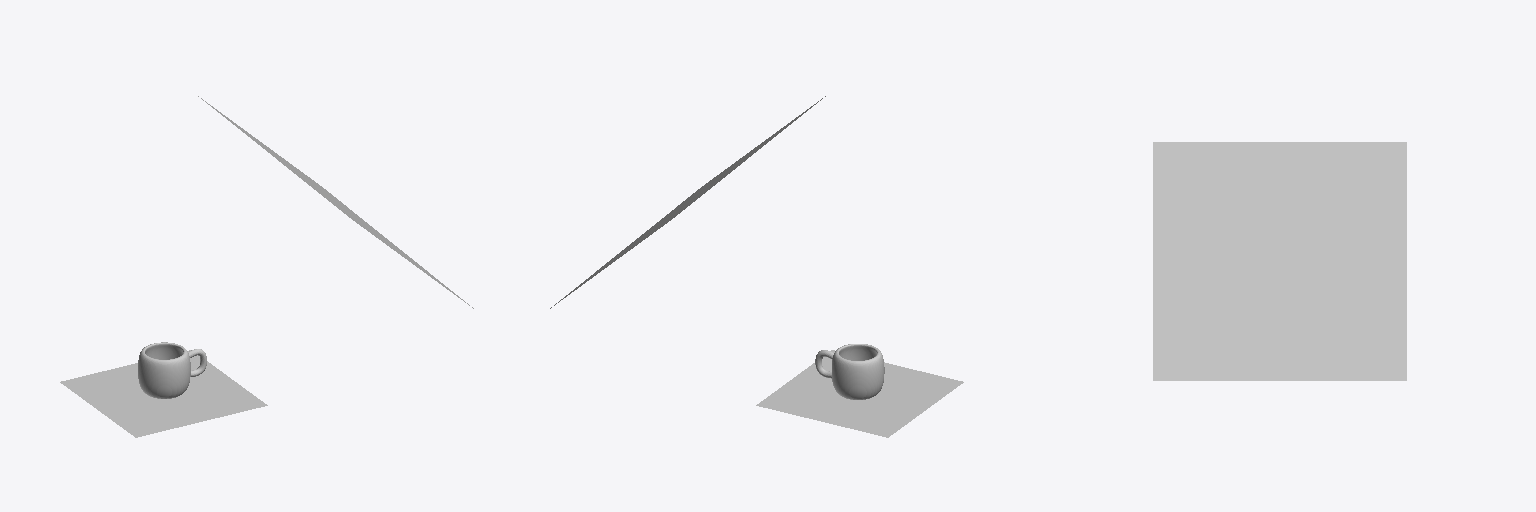
File: cup.obj
3 renders of one model, left to right at view 1: azimuth 30°, elevation 25°; view 2: azimuth 150°, elevation 25°; view 3: azimuth 270°, elevation 25°, orthographic.
Visible parts, largest first — view 1: Plane, NurbsPath_Mesh, Plane.001; view 2: Plane, NurbsPath_Mesh, Plane.001; view 3: Plane.001.
Part boxes in pixels (x1,y1,x2,y2): Plane: (60, 350, 267, 437); NurbsPath_Mesh: (138, 342, 206, 398); Plane.001: (198, 96, 473, 308); Plane: (756, 350, 963, 437); NurbsPath_Mesh: (815, 344, 884, 399); Plane.001: (550, 96, 825, 308); Plane.001: (1153, 142, 1406, 380).
Size of the model in its own units: 14.36 by 9.99 by 10.